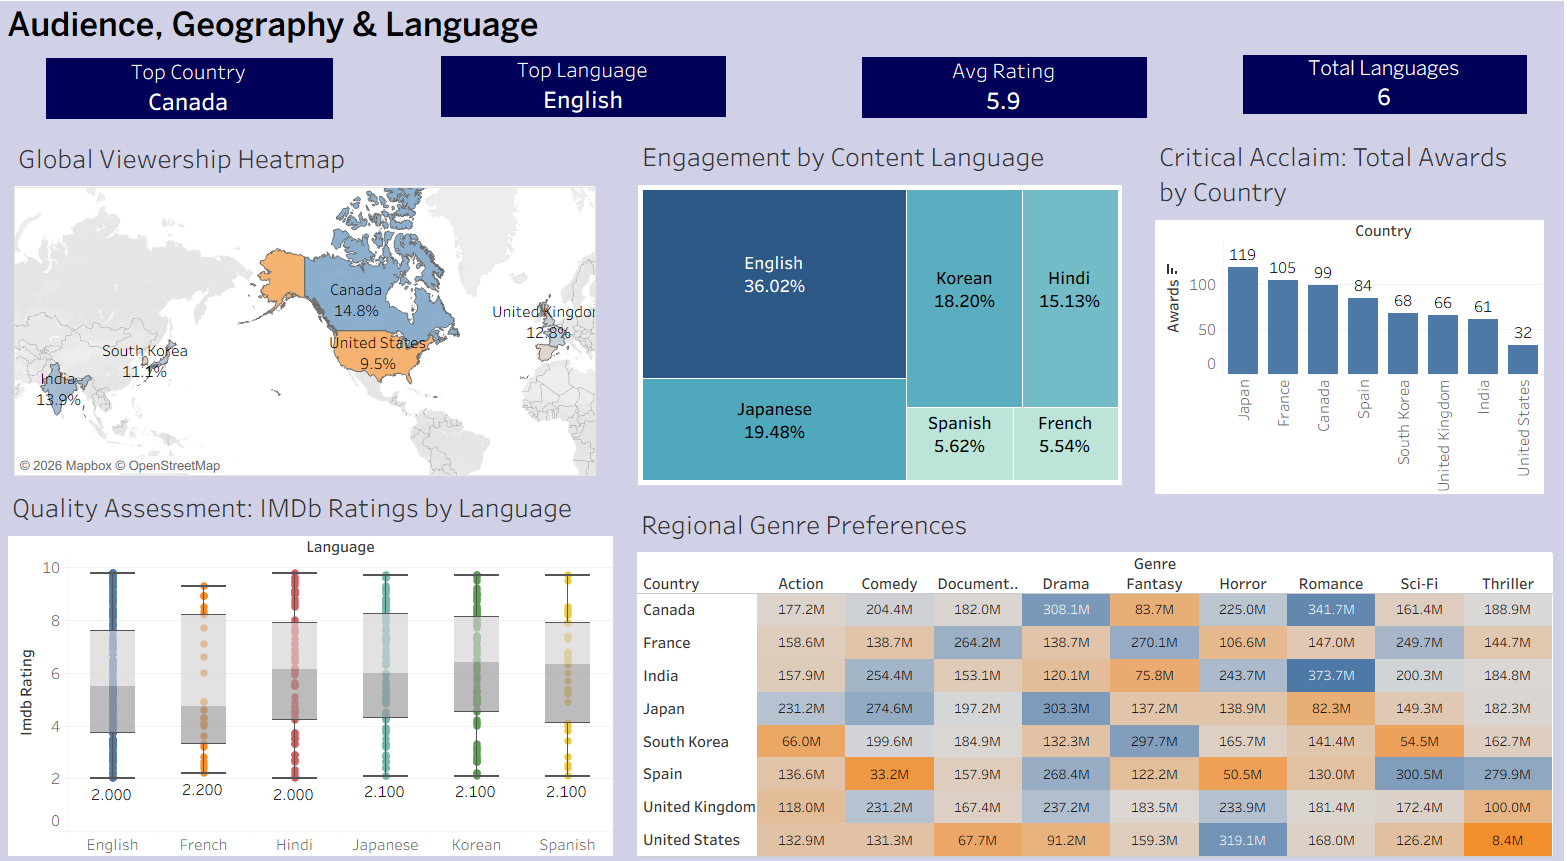

This screenshot's page, from the dashboard's own definition file:
{"tool":"tableau","page":{"name":"Dashboard 2","canvas":[1000,1000],"units":"permille","ordinal":1},"visuals":[{"type":"title","box":[5.1,9.3,989.9,55.7]},{"type":"worksheet","title":"KPI4 D2","mark":"Automatic","box":[791.8,70.8,181.7,78.9]},{"type":"worksheet","title":"KPI2 D2","mark":"Automatic","box":[284.2,71.9,182.9,73.1]},{"type":"worksheet","title":"KPI3 D2","mark":"Automatic","box":[550.6,73.1,181,73.1]},{"type":"worksheet","title":"KPI1 D2","mark":"Automatic","box":[34.2,74.2,181.7,70.8]},{"type":"worksheet","title":"Ch2 D2","mark":"Automatic","box":[408.9,161.2,306.3,400.2]},{"type":"worksheet","title":"Ch5 D2","mark":"Automatic","rows":["awards"],"cols":["country"],"box":[736.1,161.2,248.7,408.4]},{"type":"worksheet","title":"Ch1 D2","mark":"Multipolygon","box":[13.9,163.6,368.4,385.2]},{"type":"worksheet","title":"Ch3 D2","mark":"Circle","rows":["imdb_rating"],"cols":["language"],"box":[10.1,560.3,382.9,419.9]},{"type":"worksheet","title":"Ch4 D2","mark":"Square","rows":["country"],"cols":["genre"],"box":[408.2,580.1,579.8,402.6]}]}

Visuals, with their boxes on the dashboard's canvas, which has no fixed pixel size, in thousandths of its width and height (x1, y1, x2, y2). These are canvas units, not pixel positions in the 1567x861 screenshot, which may show the page scaled, cropped or inside an application window:
title: pyautogui.locateOnScreen(5, 9, 995, 65)
"KPI4 D2" worksheet: pyautogui.locateOnScreen(792, 71, 974, 150)
"KPI2 D2" worksheet: pyautogui.locateOnScreen(284, 72, 467, 145)
"KPI3 D2" worksheet: pyautogui.locateOnScreen(551, 73, 732, 146)
"KPI1 D2" worksheet: pyautogui.locateOnScreen(34, 74, 216, 145)
"Ch2 D2" worksheet: pyautogui.locateOnScreen(409, 161, 715, 561)
"Ch5 D2" worksheet: pyautogui.locateOnScreen(736, 161, 985, 570)
"Ch1 D2" worksheet (Multipolygon marks): pyautogui.locateOnScreen(14, 164, 382, 549)
"Ch3 D2" worksheet (Circle marks): pyautogui.locateOnScreen(10, 560, 393, 980)
"Ch4 D2" worksheet (Square marks): pyautogui.locateOnScreen(408, 580, 988, 983)
